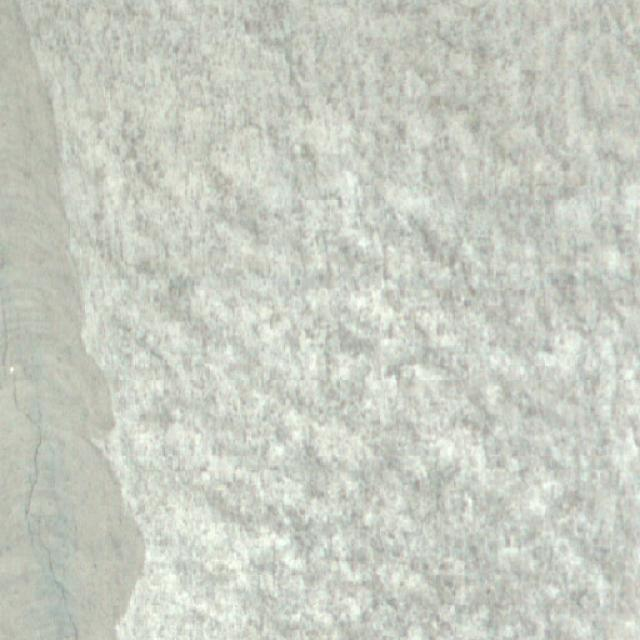Longitudinal: (0, 350, 86, 640)
